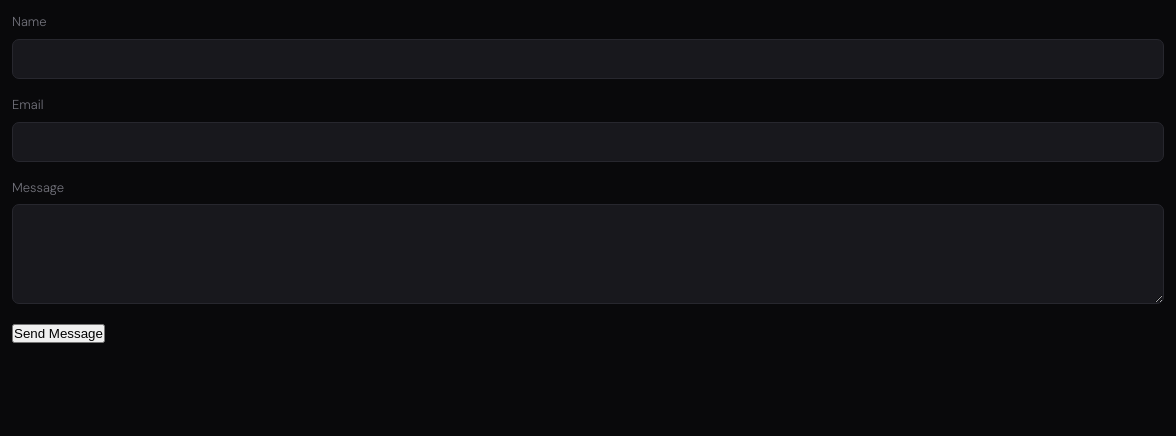
Test: ContactForm — Validation Errors › shows invalid email error
Type "not-an-email" into the field with test id "input-email" at (588, 142), box [12, 122, 1164, 162]
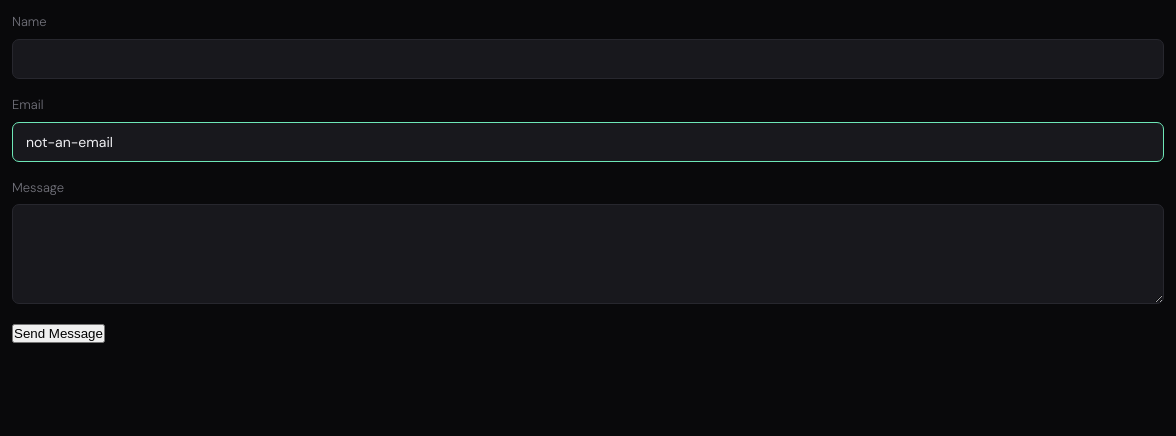
Click the button with test id "submit-btn" at (58, 334), box [12, 324, 105, 343]
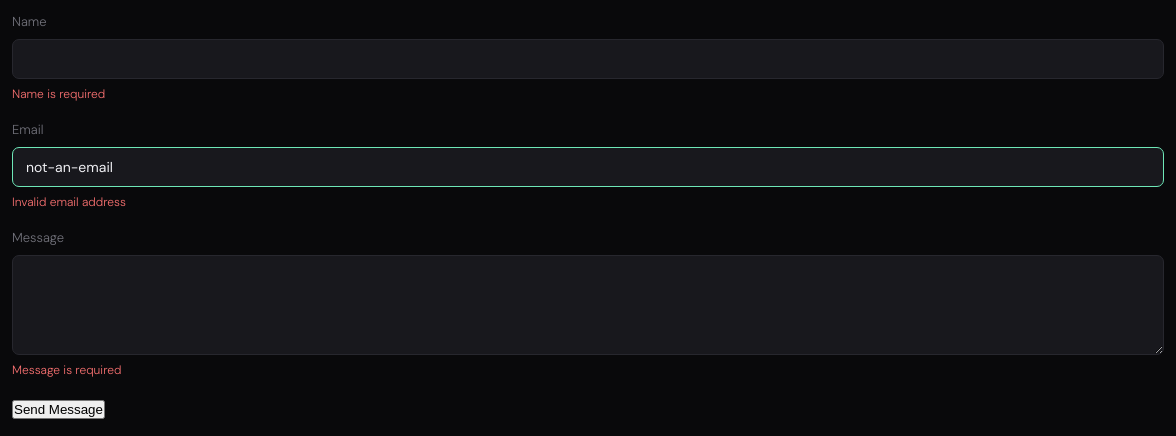
Expected: the message with test id "error-email" shows "Invalid email", [12, 194, 126, 210]
